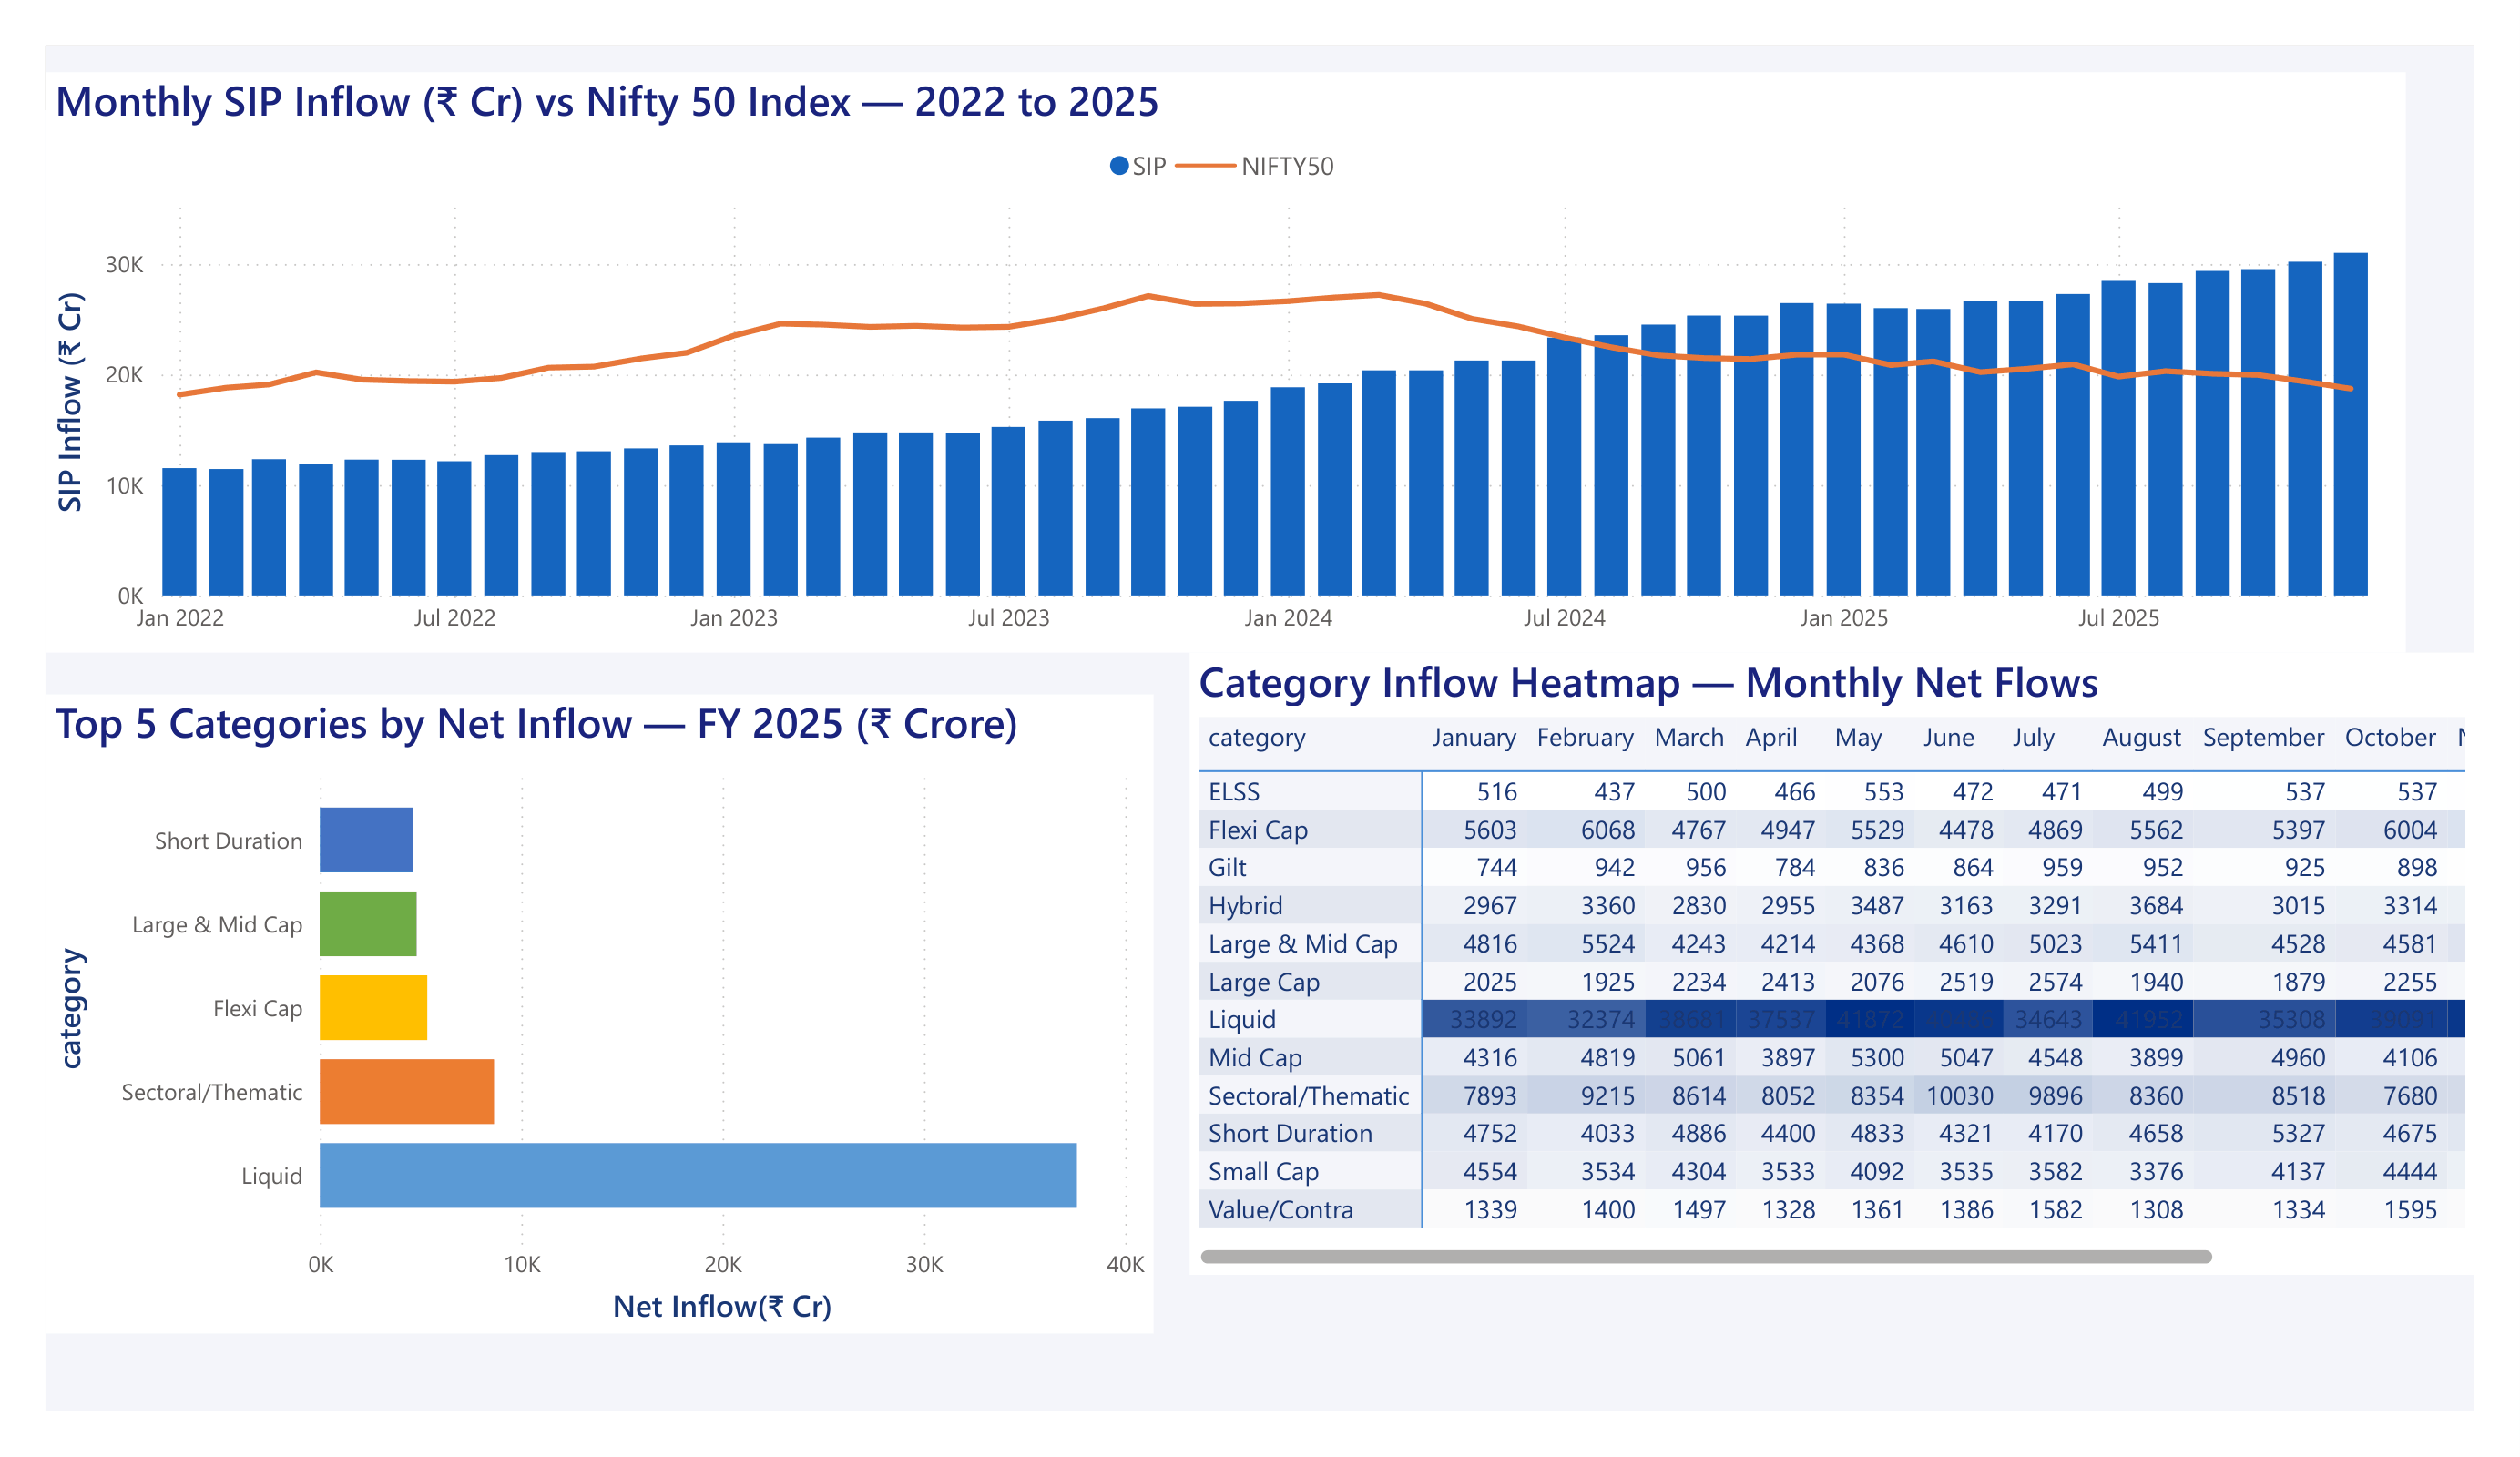

This screenshot's page, from the dashboard's own definition file:
{"tool":"powerbi","page":{"name":"SIP & Market Trends","canvas":[1280,720],"ordinal":3},"visuals":[{"type":"lineClusteredColumnComboChart","title":"Monthly SIP Inflow (₹ Cr) vs Nifty 50 Index — 2022 to 2025","fields":{"Y":["Avg(04_monthly_sip_inflows_clean.sip_inflow_crore)"],"Y2":["10_benchmark_indices_clean.NIFTY 50"],"Category":["DateTable.MonthStart"]},"box":[0,13.8,1244.4,306.3],"z":0},{"type":"barChart","title":"Top 5 Categories by Net Inflow — FY 2025 (₹ Crore)","fields":{"Y":["Avg(05_category_inflows_clean.net_inflow_crore)"],"Category":["05_category_inflows_clean.category"]},"box":[0,342.1,583.6,336.6],"z":1000},{"type":"pivotTable","title":"Category Inflow Heatmap — Monthly Net Flows","fields":{"Values":["Sum(05_category_inflows_clean.net_inflow_crore)"],"Rows":["05_category_inflows_clean.category"],"Columns":["05_category_inflows_clean.month.Variation.Date Hierarchy.Month"]},"box":[602.9,320.1,677.4,328.3],"z":2000}]}

Visuals, with their boxes on the page's 1280x720 design canvas (x1, y1, x2, y2). These are canvas units, not pixel positions in the 2520x1457 screenshot, which may show the page scaled, cropped or inside an application window:
"Monthly SIP Inflow (₹ Cr) vs Nifty 50 Index — 2022 to 2025" lineClusteredColumnComboChart: [0,14,1244,320]
"Top 5 Categories by Net Inflow — FY 2025 (₹ Crore)" barChart: [0,342,584,679]
"Category Inflow Heatmap — Monthly Net Flows" pivotTable: [603,320,1280,648]
